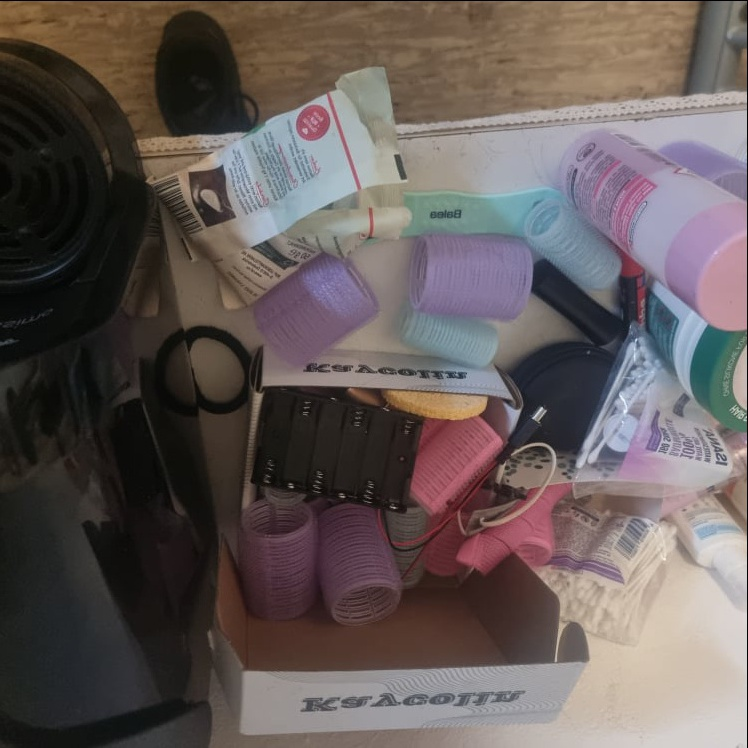BATTERY BOX: (254, 387, 427, 513)
